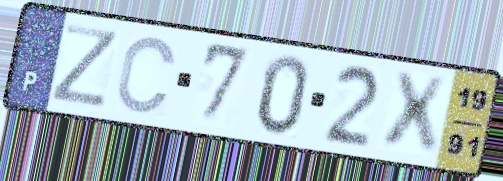0: (255, 52, 313, 139)
2: (321, 63, 384, 151)
7: (198, 39, 255, 130)
C: (113, 34, 180, 117)
X: (380, 69, 451, 159)
Z: (47, 21, 122, 110)
